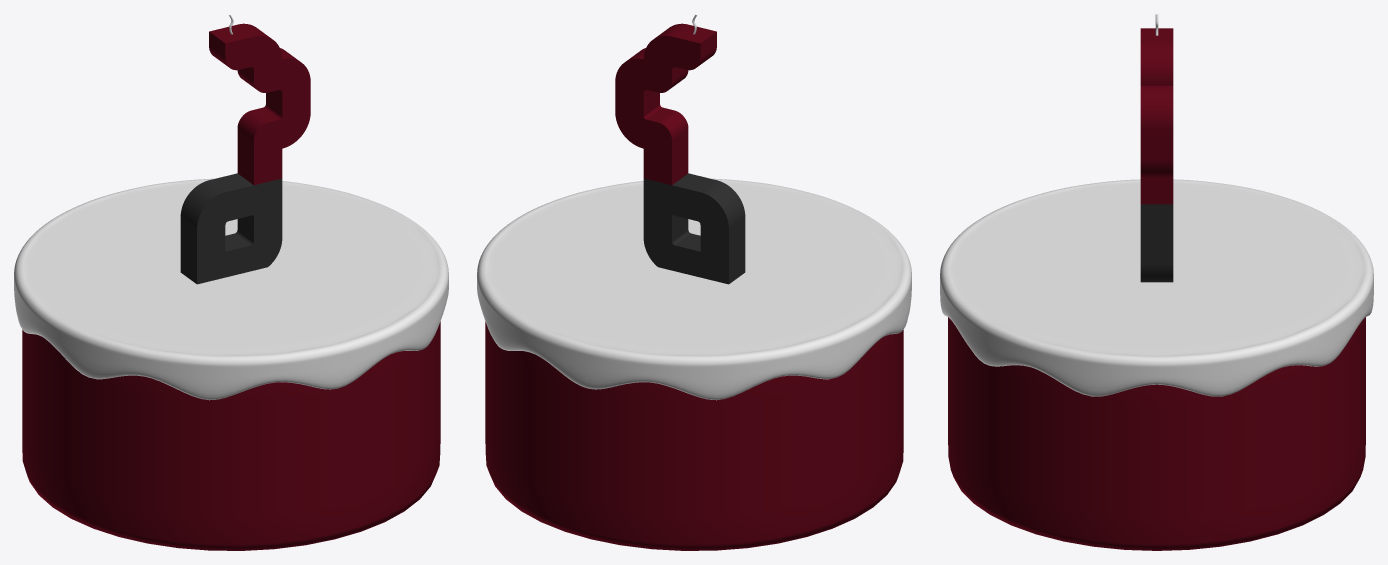
File: MainMesh.gltf
The picture shows the model from 3 angles, left to right: view 1: azimuth 30°, elevation 25°; view 2: azimuth 150°, elevation 25°; view 3: azimuth 270°, elevation 25°; orthographic projection.
Visible parts, largest first — view 1: Top, Base, Bottom, Top.001; view 2: Top, Base, Bottom, Top.001; view 3: Top, Base, Top.001, Bottom.
Boxes of the visible parts, box(x1,y1,x2,y2) form: Top: box(14, 178, 448, 400); Base: box(22, 321, 440, 550); Bottom: box(180, 173, 282, 284); Top.001: box(209, 23, 310, 185); Top: box(477, 178, 911, 400); Base: box(485, 321, 903, 550); Bottom: box(643, 173, 745, 284); Top.001: box(615, 23, 716, 185); Top: box(940, 179, 1373, 396); Base: box(948, 317, 1365, 550); Top.001: box(1140, 28, 1173, 204); Bottom: box(1140, 204, 1173, 282).
Bounding box in the file's own units: 0.4083 × 0.4683 × 0.4083.
